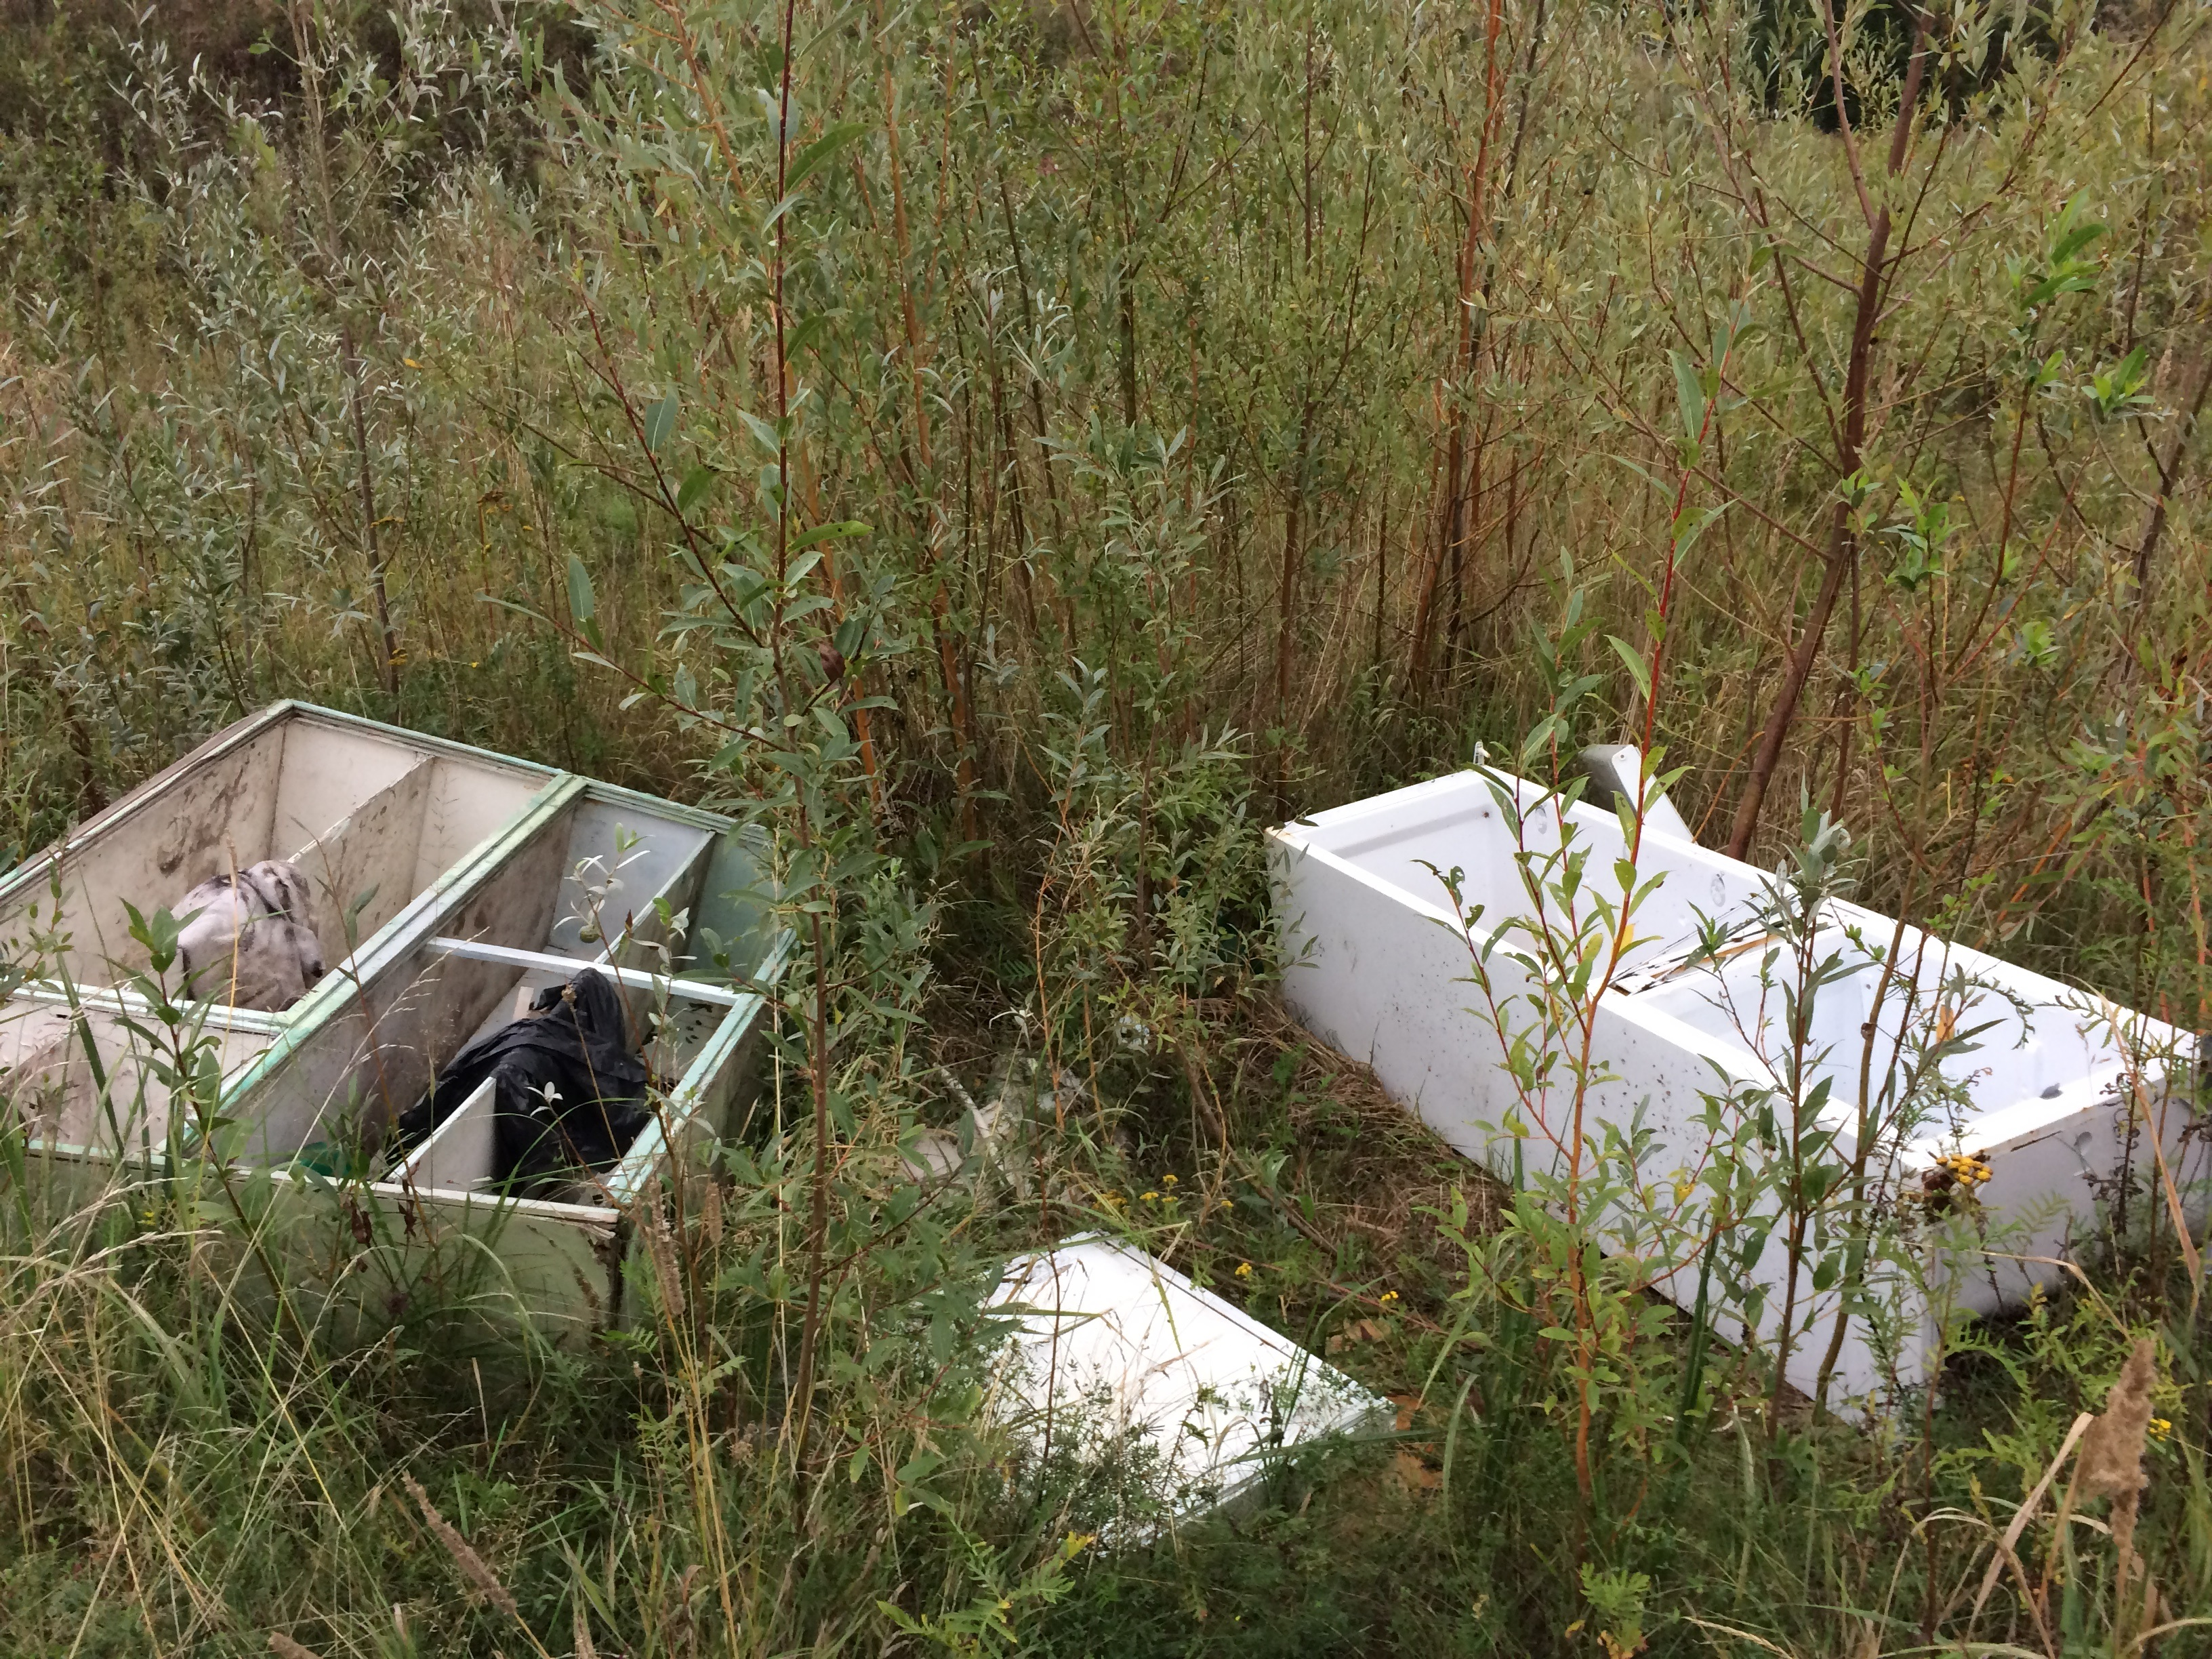trash: (1202, 657, 2212, 1345), (2, 667, 984, 1262), (834, 1176, 1442, 1528)
